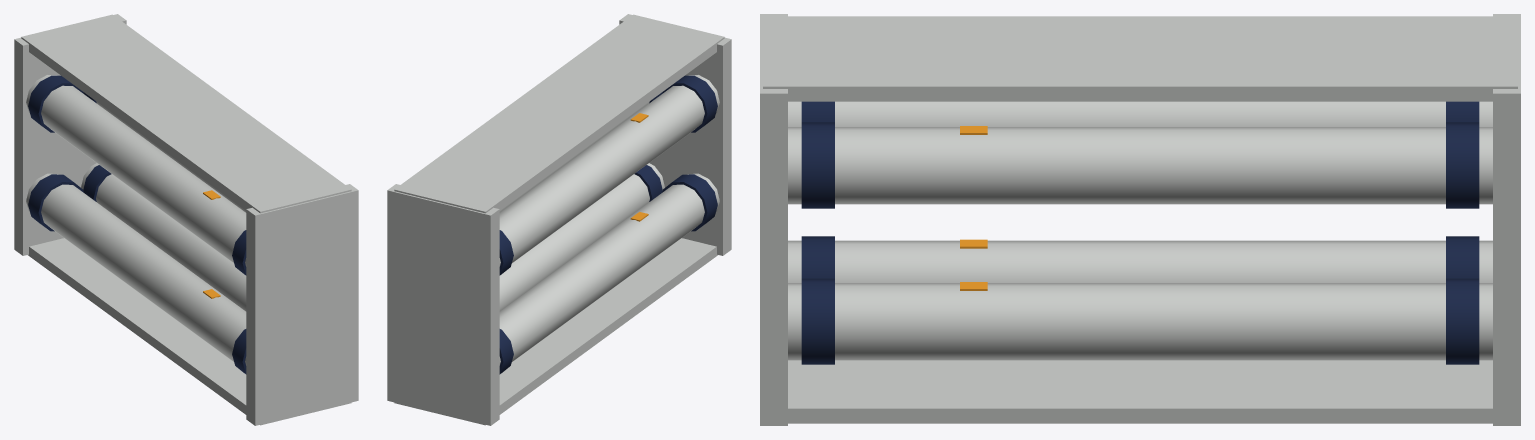
Rendered from s60_cells.obj.
The picture shows the model from 3 angles, left to right: view 1: azimuth 30°, elevation 25°; view 2: azimuth 150°, elevation 25°; view 3: azimuth 270°, elevation 25°; orthographic projection. The views are drawn at different scales.
Visible parts, largest first — view 1: s60_cells; view 2: s60_cells; view 3: s60_cells.
Part boxes in pixels (x1,y1,x2,y2): s60_cells: (14, 14, 358, 425); s60_cells: (387, 14, 731, 425); s60_cells: (760, 14, 1520, 425).
Size of the model in its own units: 0.2452 by 0.4832 by 0.9881.
